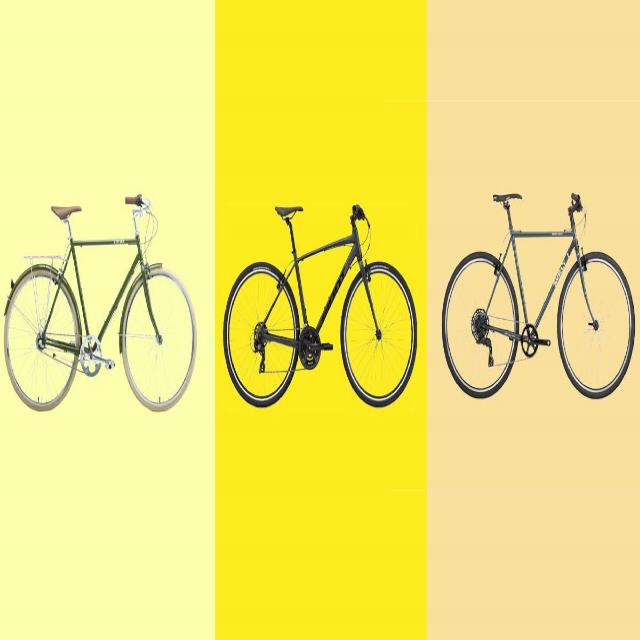bicycle: (217, 180, 423, 428), (0, 192, 203, 436), (434, 173, 638, 413)
